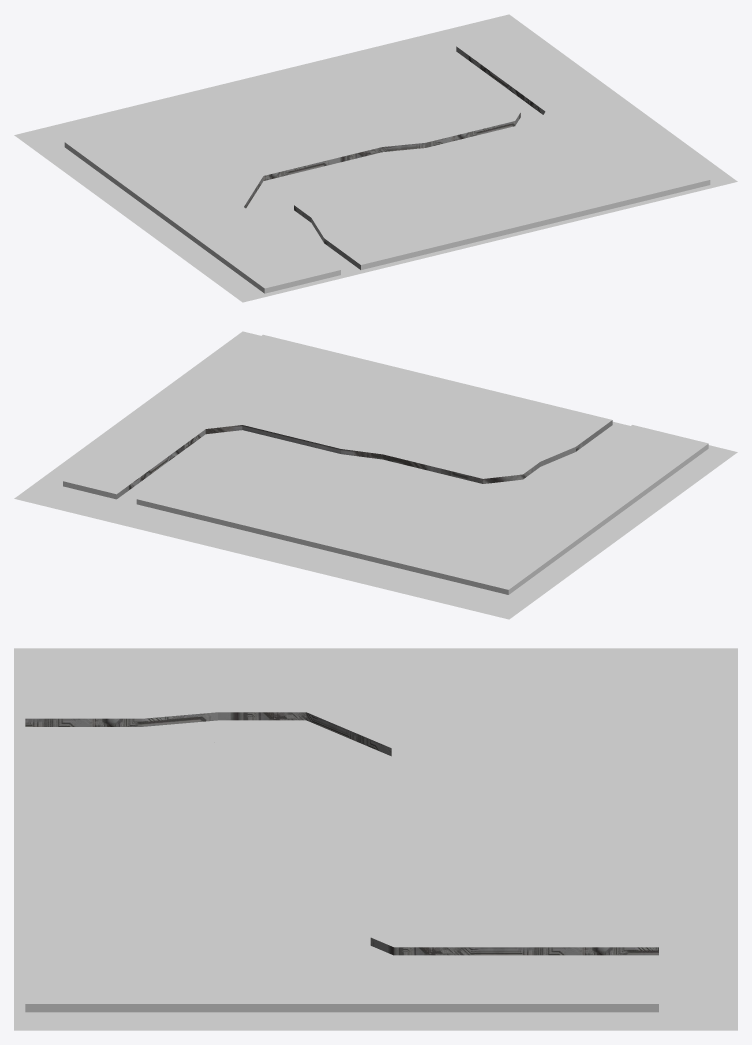
File: DroneIntroLevel 1.fbx
3 views of the same model, one above another, from view 1: azimuth 30°, elevation 25°; view 2: azimuth 150°, elevation 25°; view 3: azimuth 270°, elevation 25° (orthographic). The views are drawn at different scales.
Visible parts, largest first — view 1: Bulk, Floor, Walls1, Walls2; view 2: Bulk, Floor, Walls2; view 3: Bulk, Floor, Walls1.
Boxes of the visible parts, x1,y1,x2,y2 form: Bulk: [64, 33, 710, 293]; Floor: [14, 14, 737, 302]; Walls1: [244, 113, 520, 208]; Walls2: [294, 46, 545, 269]; Bulk: [63, 334, 708, 594]; Floor: [14, 331, 737, 619]; Walls2: [116, 420, 612, 498]; Bulk: [25, 659, 658, 1012]; Floor: [14, 648, 737, 1030]; Walls1: [25, 712, 658, 955].
Bounding box in the file's own units: 32000 × 40000 × 400.
